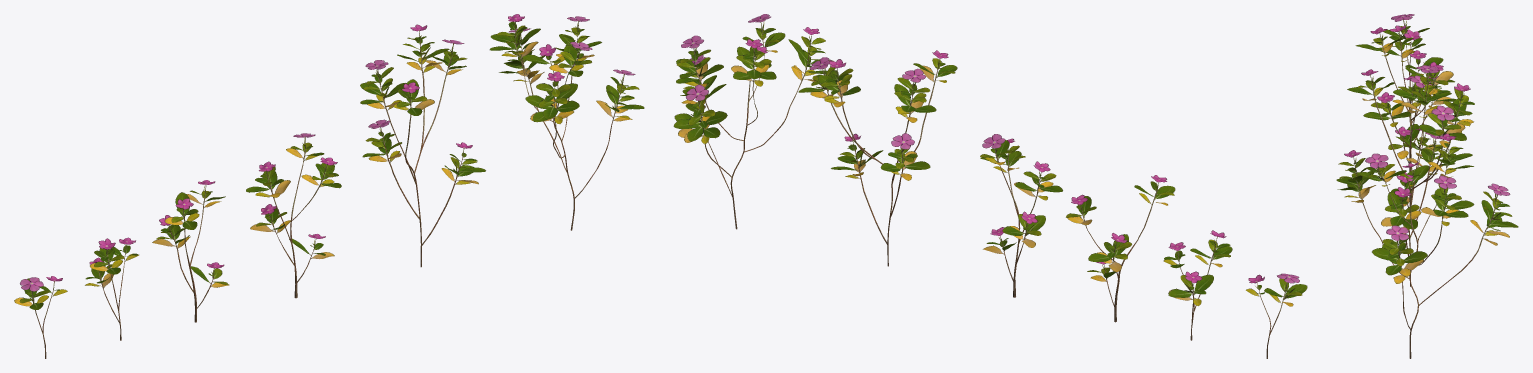
The model's file is periwinkle.glb.
The picture shows the model from 3 angles, left to right: view 1: azimuth 30°, elevation 25°; view 2: azimuth 150°, elevation 25°; view 3: azimuth 270°, elevation 25°; orthographic projection. The views are drawn at different scales.
Parts seen in each view (by area): view 1: periwinkle_plant_01_LOD0, periwinkle_plant_02_LOD0, periwinkle_plant_03_LOD0, periwinkle_plant_04_LOD0, periwinkle_plant_05_LOD0, periwinkle_plant_06_LOD0; view 2: periwinkle_plant_01_LOD0, periwinkle_plant_02_LOD0, periwinkle_plant_03_LOD0, periwinkle_plant_04_LOD0, periwinkle_plant_05_LOD0, periwinkle_plant_06_LOD0; view 3: periwinkle_plant_01_LOD0, periwinkle_plant_02_LOD0, periwinkle_plant_03_LOD0, periwinkle_plant_04_LOD0, periwinkle_plant_05_LOD0, periwinkle_plant_06_LOD0.
Boxes of the visible parts, x1,y1,x2,y2 form: periwinkle_plant_01_LOD0: (489,14,644,230); periwinkle_plant_02_LOD0: (360,24,485,267); periwinkle_plant_03_LOD0: (246,133,341,298); periwinkle_plant_04_LOD0: (152,180,229,322); periwinkle_plant_05_LOD0: (85,237,138,340); periwinkle_plant_06_LOD0: (14,276,67,358); periwinkle_plant_01_LOD0: (673,14,833,229); periwinkle_plant_02_LOD0: (798,50,957,266); periwinkle_plant_03_LOD0: (980,134,1062,297); periwinkle_plant_04_LOD0: (1066,175,1175,322); periwinkle_plant_05_LOD0: (1163,230,1232,340); periwinkle_plant_06_LOD0: (1246,273,1307,358); periwinkle_plant_01_LOD0: (1336,133,1518,358); periwinkle_plant_02_LOD0: (1347,65,1474,286); periwinkle_plant_03_LOD0: (1363,75,1440,207); periwinkle_plant_04_LOD0: (1355,27,1455,171); periwinkle_plant_05_LOD0: (1377,25,1454,123); periwinkle_plant_06_LOD0: (1383,14,1429,103).
Size of the model in its own units: 1.24 by 0.4107 by 0.3208.
1 material, 1 textured.
